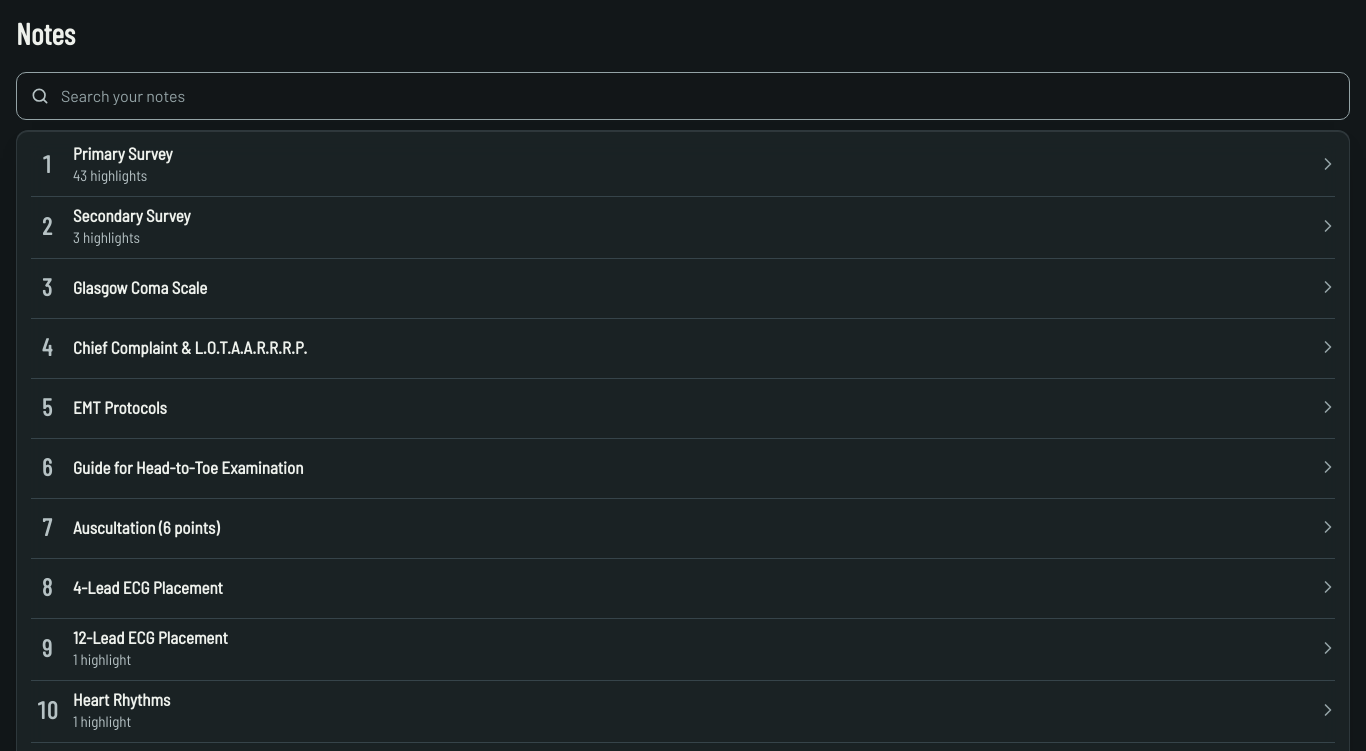
Test case: Notes tab: search › counts one match in the singular
Type "1 every 5s" into the search field labelled "Search your notes".
click(683, 96); type("1 every 5s")  # box [16,72,1350,120]
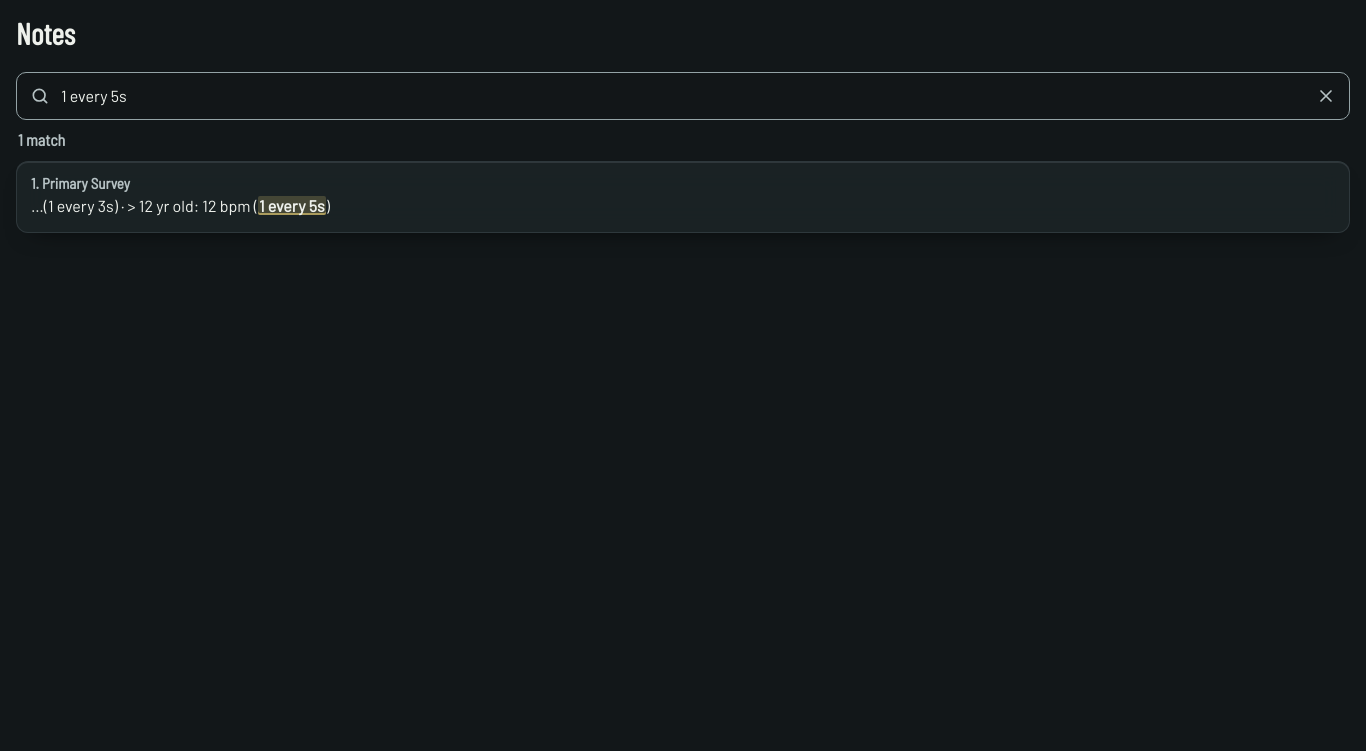
Check: the text "1 match" is shown, box [18,130,65,149]
Check: the text "1 every 5s" is shown, box [258,196,326,215]
